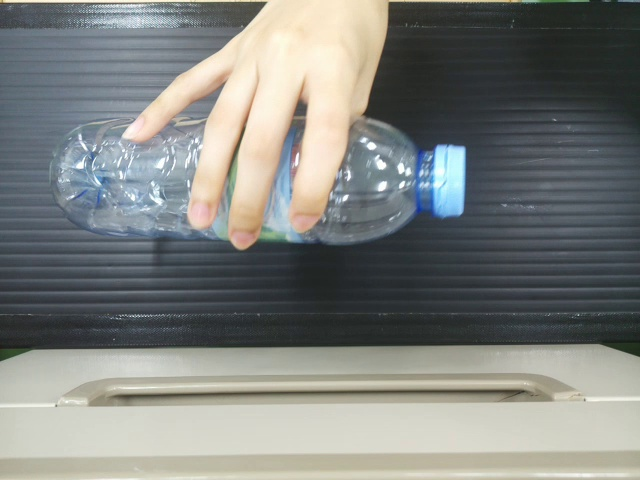bottle: (336, 102, 466, 243), (50, 107, 189, 234)
